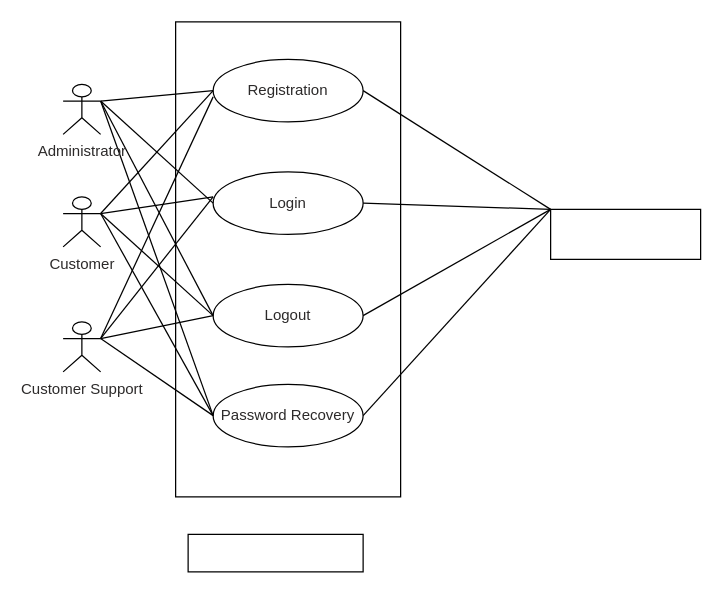
Image size: 723x594. Some labels were removed from this diagram. The centre of each missing label's shape, as x and y in pixels:
Account Management: point (275, 552)
Database: point (625, 233)
